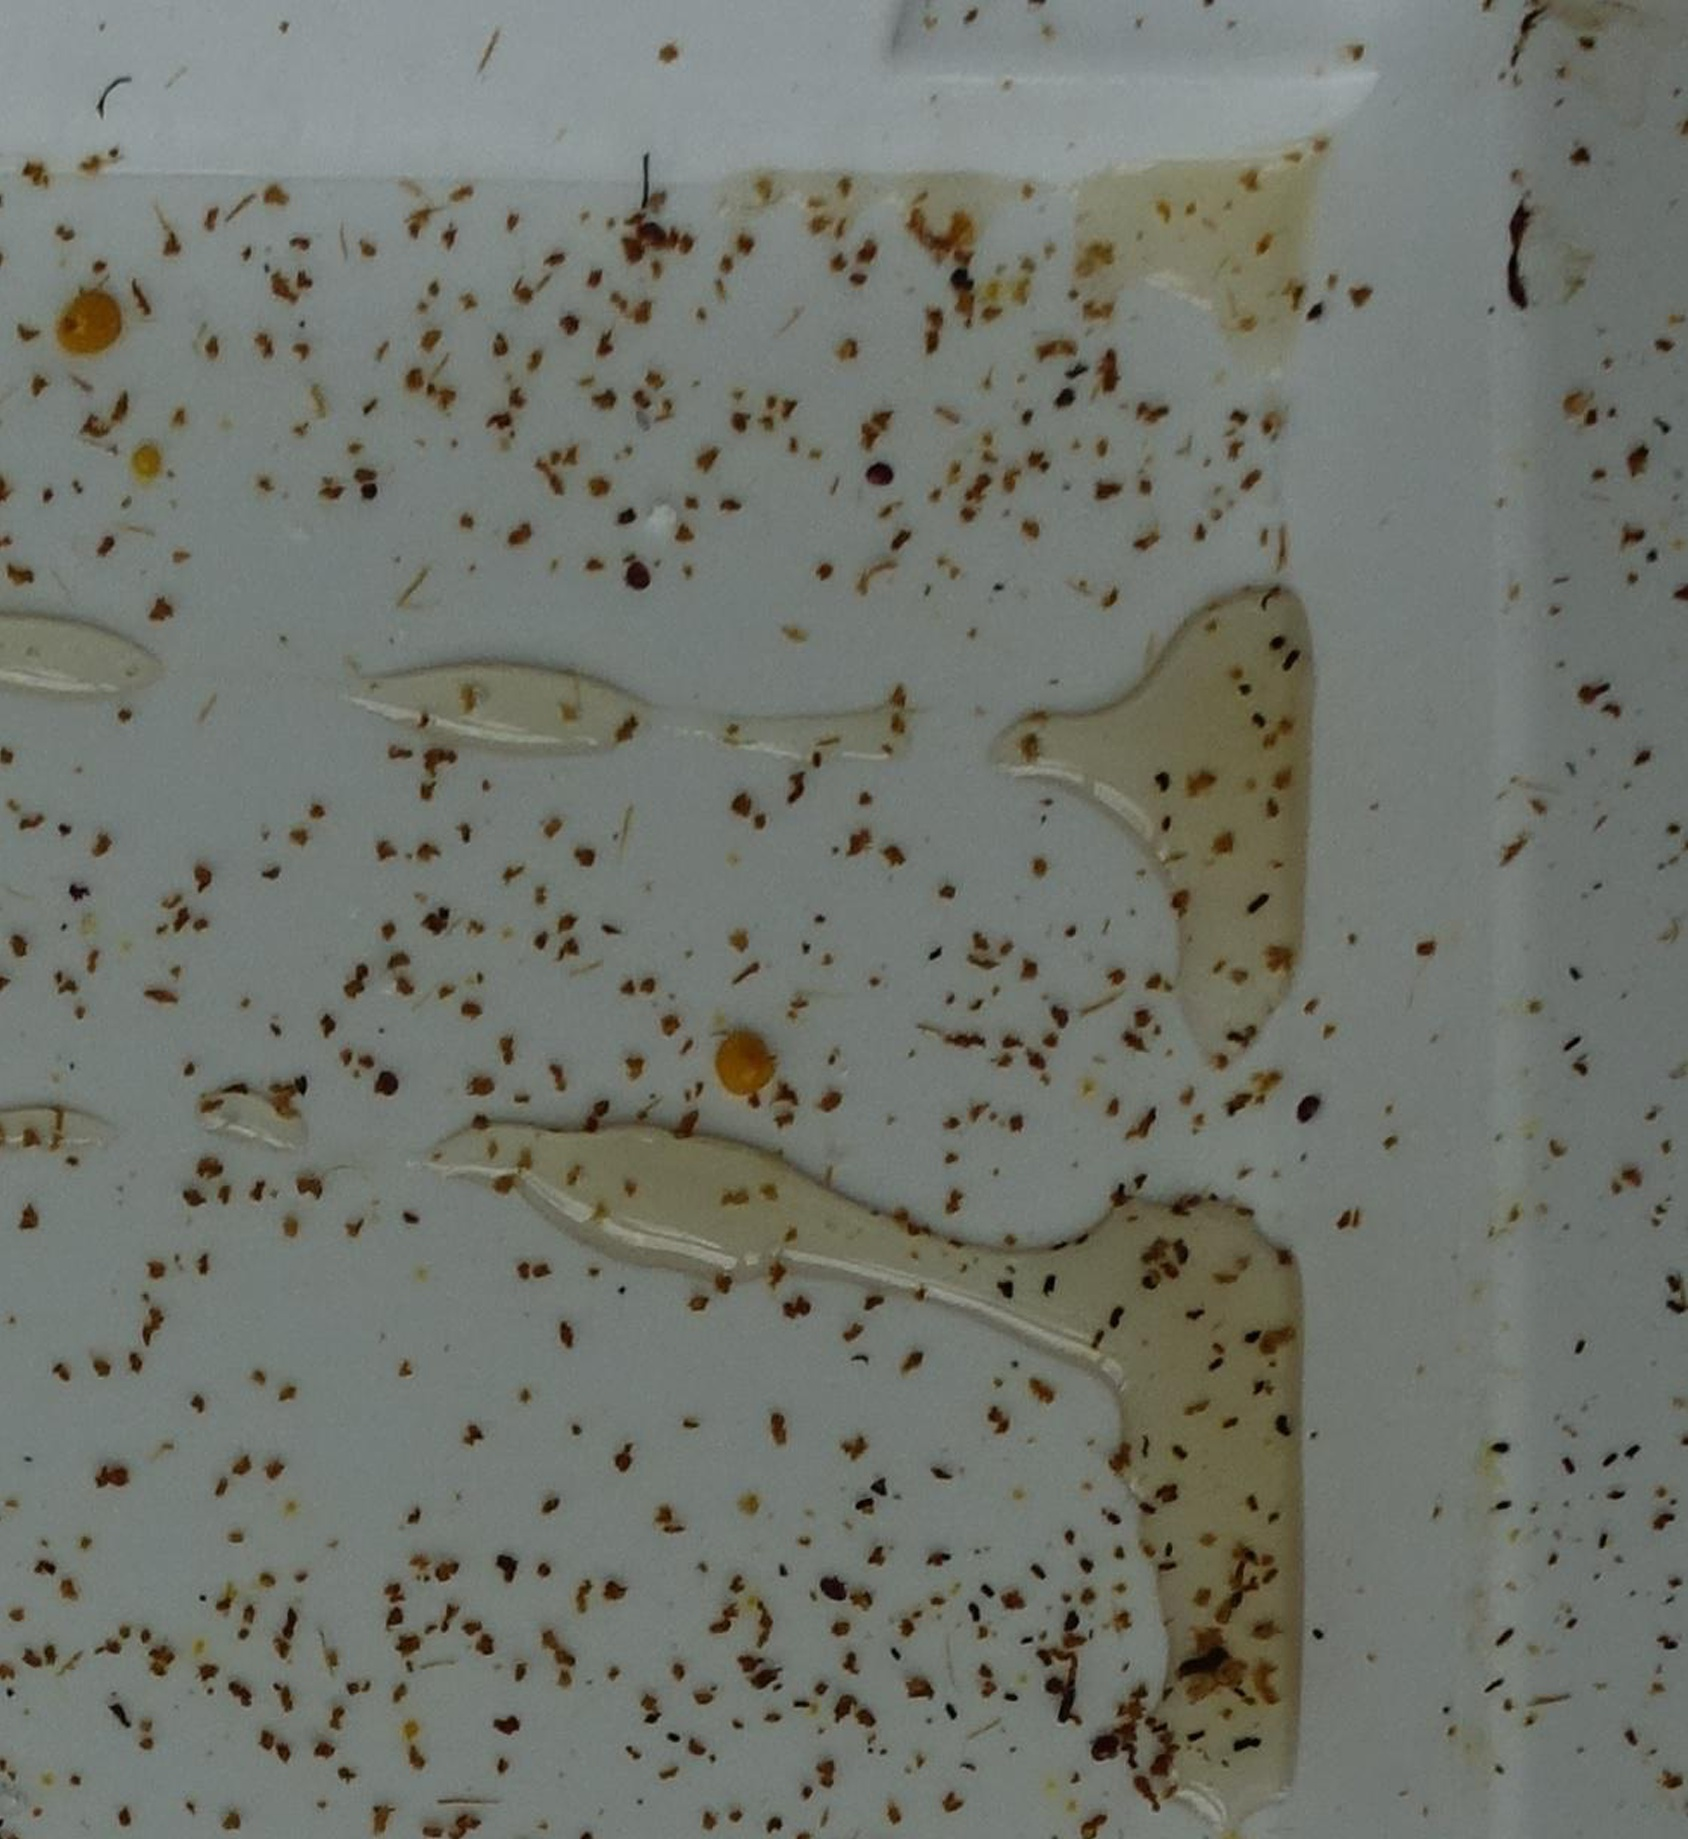Varroa: (1083, 1736, 1119, 1770), (823, 1573, 854, 1605), (1291, 1096, 1320, 1125), (623, 562, 650, 593), (866, 460, 894, 490)
